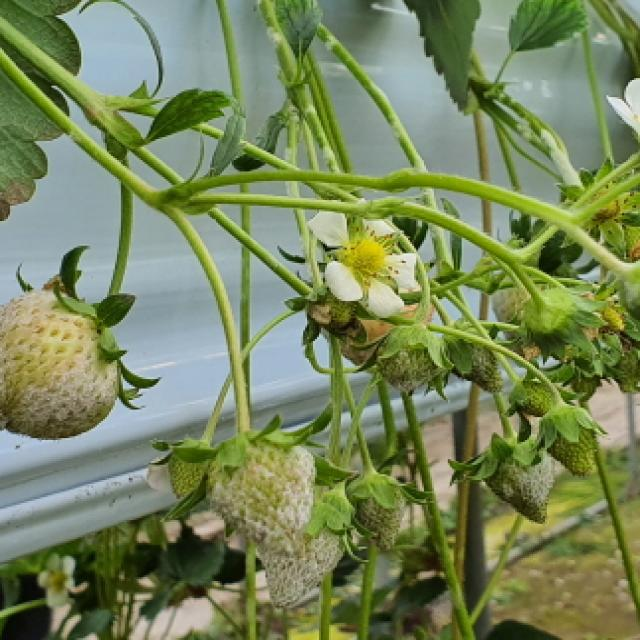Powdery Mildew Fruit: (0, 289, 124, 443), (203, 428, 319, 542), (257, 488, 351, 606), (481, 440, 555, 523)
